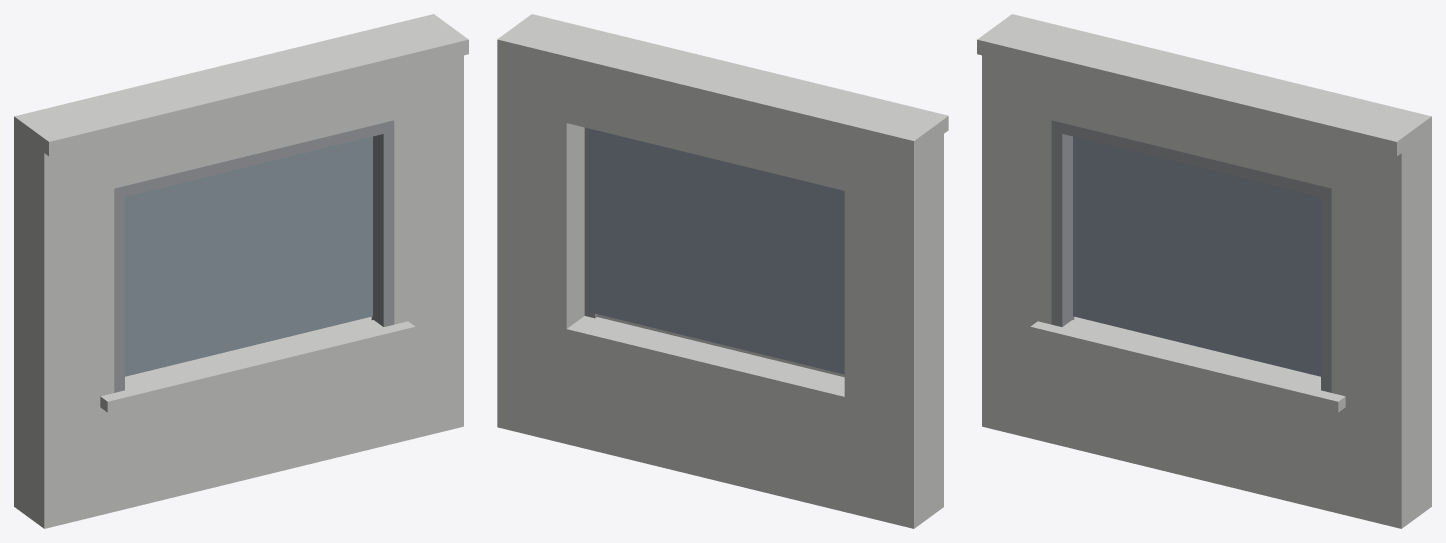
Rendered from bay_precast_office.glb.
3 renders of one model, left to right at view 1: azimuth 30°, elevation 25°; view 2: azimuth 150°, elevation 25°; view 3: azimuth 330°, elevation 25°, orthographic.
Visible parts, largest first — view 1: facade_bay_precast_office; view 2: facade_bay_precast_office; view 3: facade_bay_precast_office.
Part boxes in pixels (<box>): facade_bay_precast_office: <box>14,14,468,528</box>; facade_bay_precast_office: <box>497,14,948,528</box>; facade_bay_precast_office: <box>977,14,1431,528</box>.
Bounding box in the file's own units: 3.6 × 3.2 × 0.5599.
